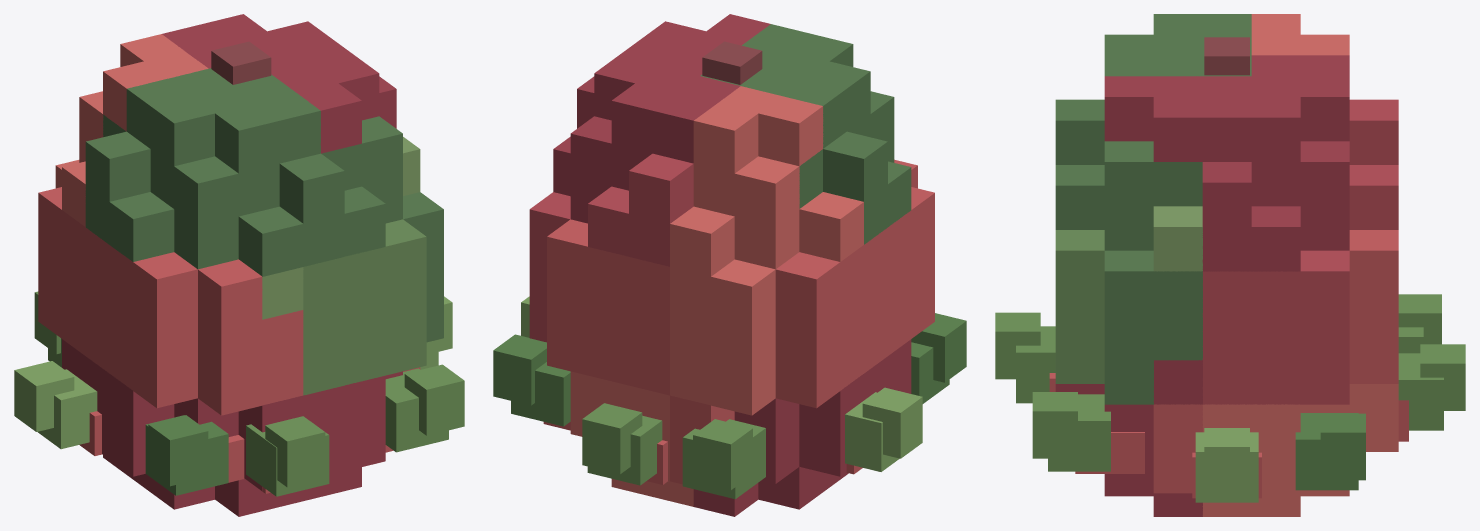
Rendered from DF-06_bien_hoa_red.glb.
The picture shows the model from 3 angles, left to right: view 1: azimuth 30°, elevation 25°; view 2: azimuth 150°, elevation 25°; view 3: azimuth 270°, elevation 25°; orthographic projection. The views are drawn at different scales.
Parts seen in each view (by area): view 1: Bien Hoa Red · original workbench cubes; view 2: Bien Hoa Red · original workbench cubes; view 3: Bien Hoa Red · original workbench cubes.
Part boxes in pixels (box(x1,y1,x2,y2)): Bien Hoa Red · original workbench cubes: box(14, 14, 464, 516); Bien Hoa Red · original workbench cubes: box(493, 14, 966, 516); Bien Hoa Red · original workbench cubes: box(995, 14, 1465, 516).
Size of the model in its own units: 0.1359 by 0.132 by 0.1345.
